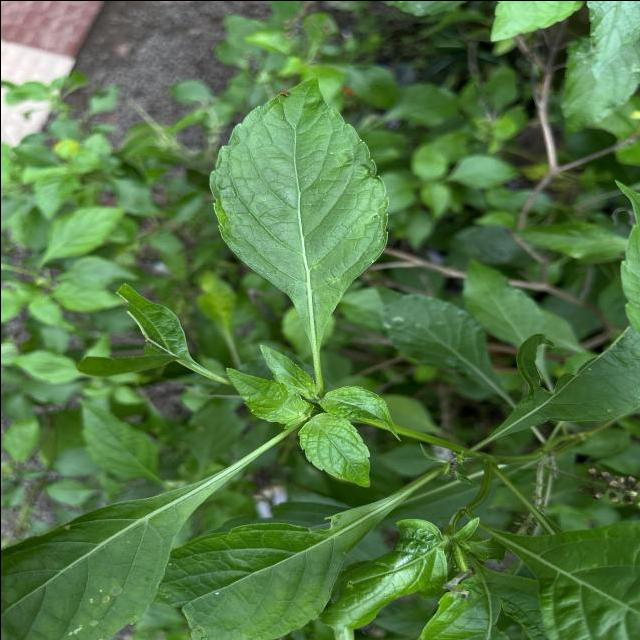Ocimum gratissimum: (207, 71, 390, 353)
